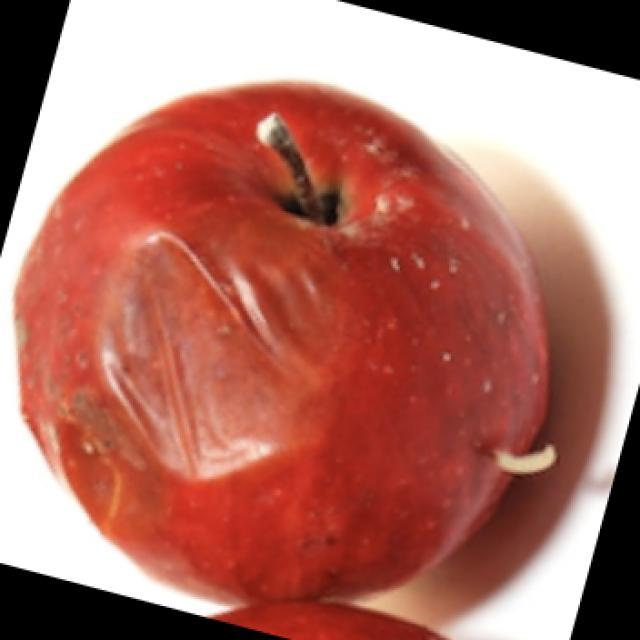Rotten: (20, 70, 543, 590)
